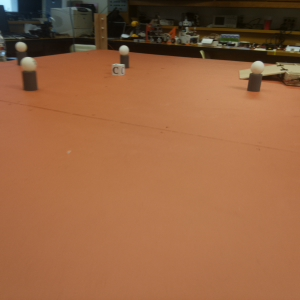blockC: (111, 64, 124, 76)
corner: (94, 14, 108, 49)
obstacle: (20, 57, 38, 91), (245, 62, 263, 93), (119, 45, 130, 68), (15, 41, 25, 64)
